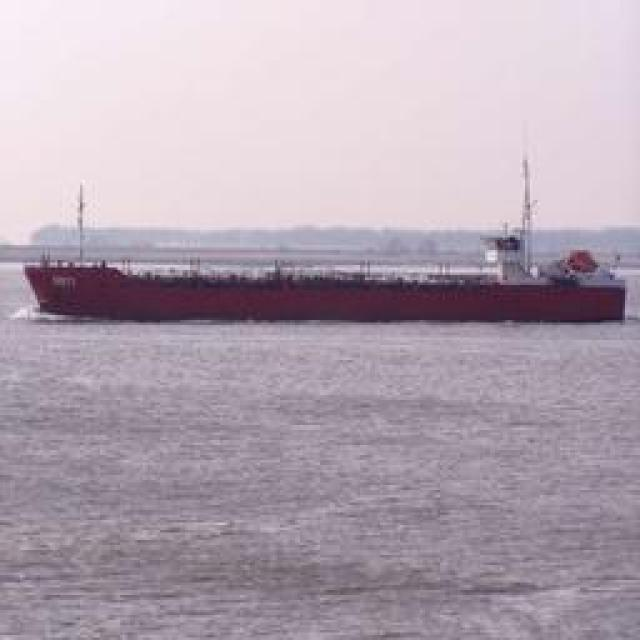Ship: (32, 260, 630, 325)
